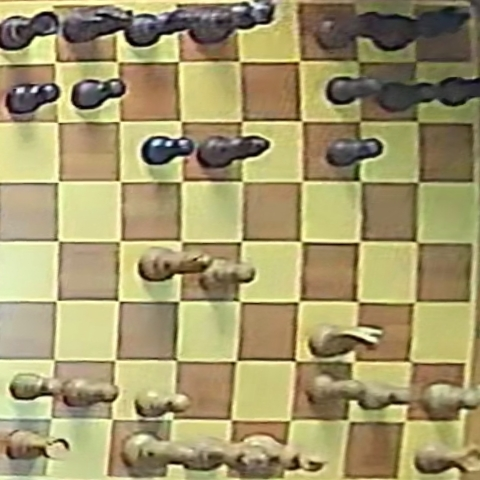black-bishop: (123, 8, 206, 48), (198, 135, 269, 168)
black-knight: (374, 6, 471, 52), (62, 5, 133, 45)
black-pawn: (378, 80, 442, 112), (6, 82, 60, 116), (325, 137, 383, 167), (73, 78, 126, 109), (327, 76, 383, 105), (143, 136, 195, 166), (434, 75, 478, 107)
black-queen: (185, 2, 280, 46)
black-rook: (316, 10, 387, 50), (1, 11, 59, 50)
white-bishop: (122, 432, 198, 475), (140, 246, 212, 281)
white-king: (240, 432, 332, 475)
white-knight: (309, 323, 382, 357)
white-pawn: (415, 382, 480, 418), (199, 259, 257, 291), (60, 377, 119, 407), (309, 373, 366, 404), (356, 380, 413, 408), (9, 372, 63, 401), (135, 389, 190, 417)
white-queen: (180, 432, 272, 474)
white-rook: (2, 430, 73, 464), (416, 441, 480, 473)
